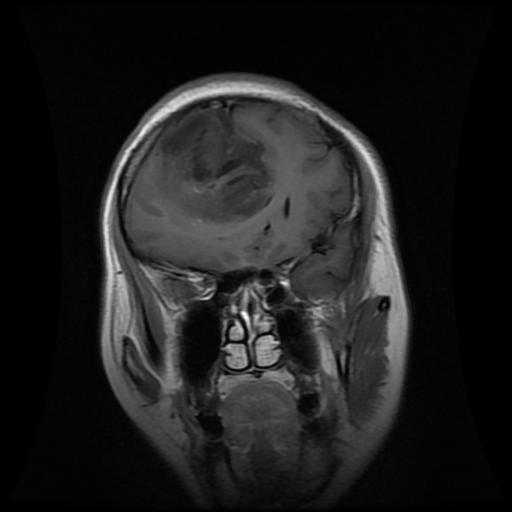Gliomia_tumour: (161, 101, 272, 220)
